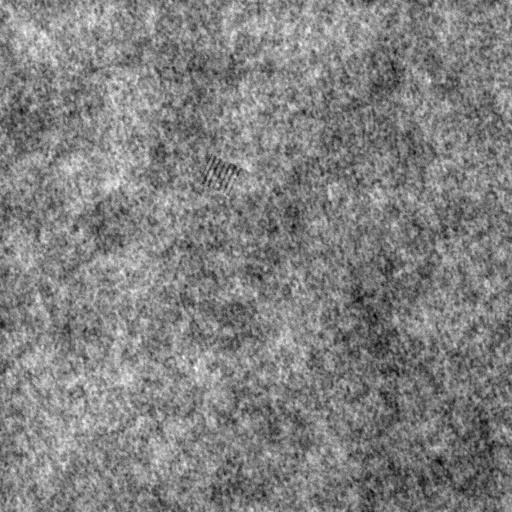DefectTypeB: (197, 155, 241, 193)
